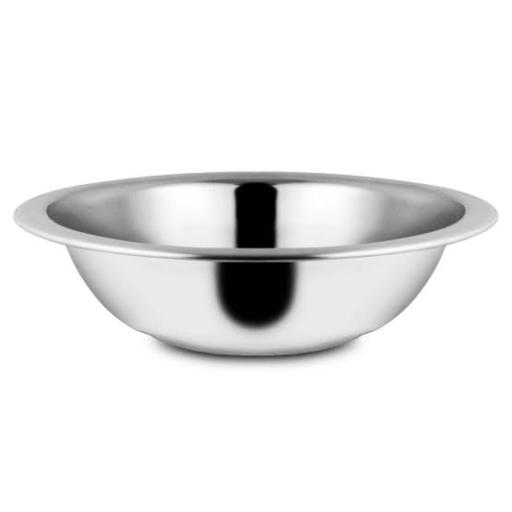Bowl: (15, 172, 496, 355)
